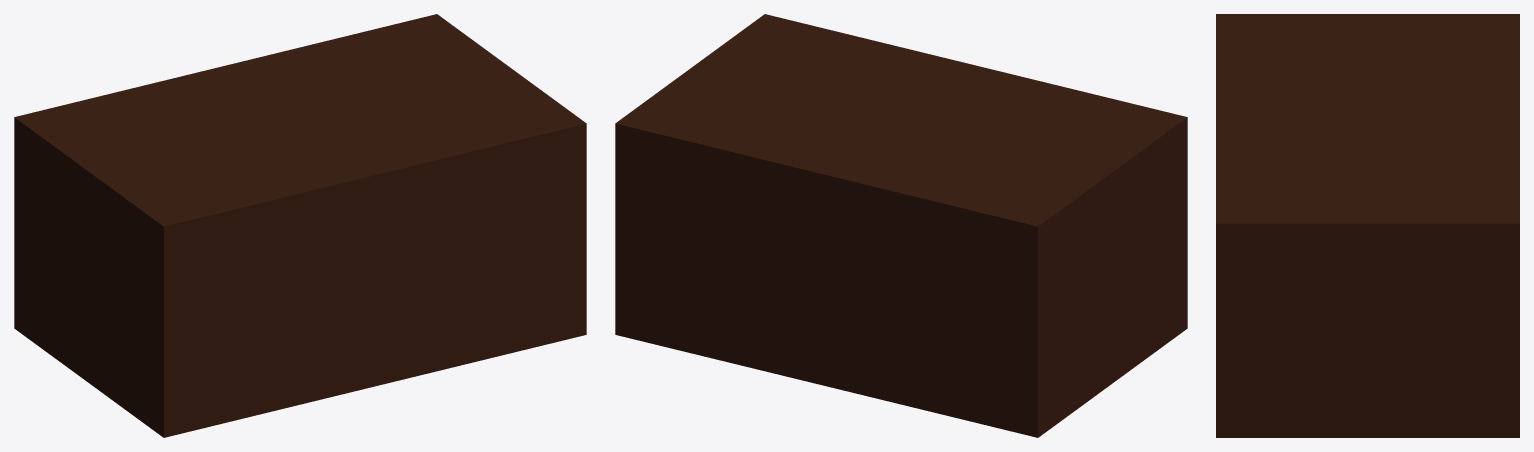
Rendered from computer_terminal.obj.
The picture shows the model from 3 angles, left to right: view 1: azimuth 30°, elevation 25°; view 2: azimuth 150°, elevation 25°; view 3: azimuth 270°, elevation 25°; orthographic projection.
Visible parts, largest first — view 1: dark_wood; view 2: dark_wood; view 3: dark_wood.
Boxes of the visible parts, x1,y1,x2,y2 form: dark_wood: [14, 14, 586, 437]; dark_wood: [615, 14, 1187, 437]; dark_wood: [1216, 14, 1519, 437].
Bounding box in the file's own units: 1.55 × 0.74 × 0.95.
